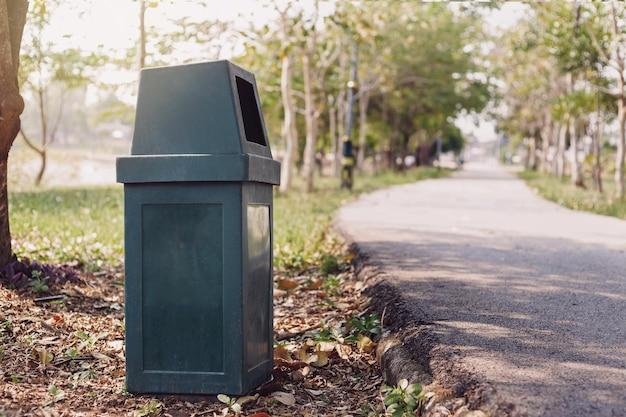road: (335, 163, 626, 415)
